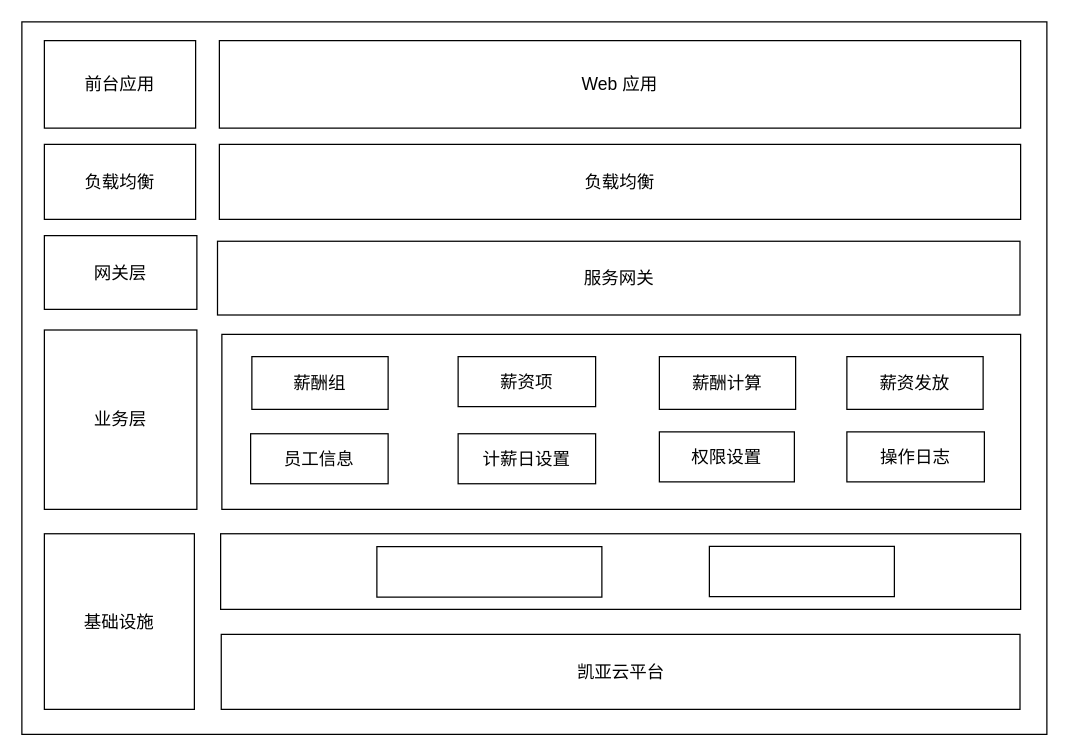
Some shapes in this 1069 by 756 pixel diagram are drawn without their labels. The centre of each missing label's shape, as x and y in pixels:
数据库: point (489, 571)
文件存储: point (801, 571)
